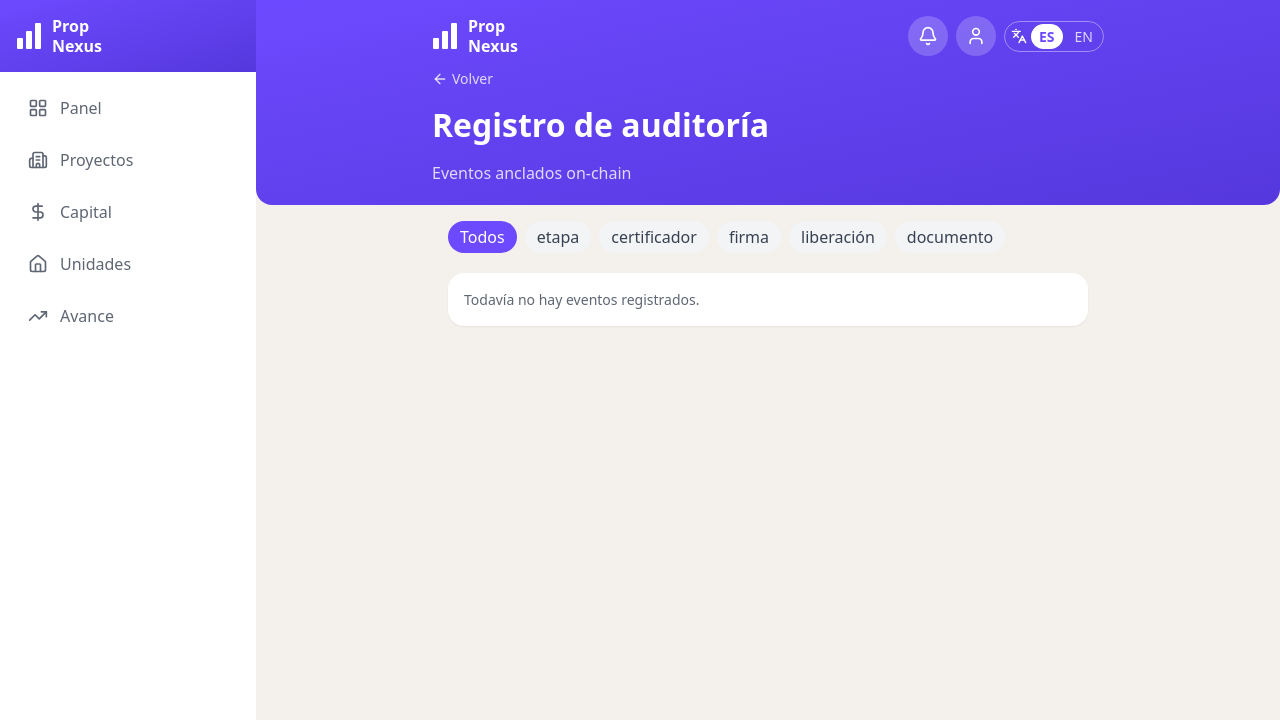
/developer/audit-log › la flecha de volver lleva al panel del developer
What coordinates should you click on to do the following:
click the button "Volver"
I would click on:
 (462, 78)
Its box is [432,68,493,89].
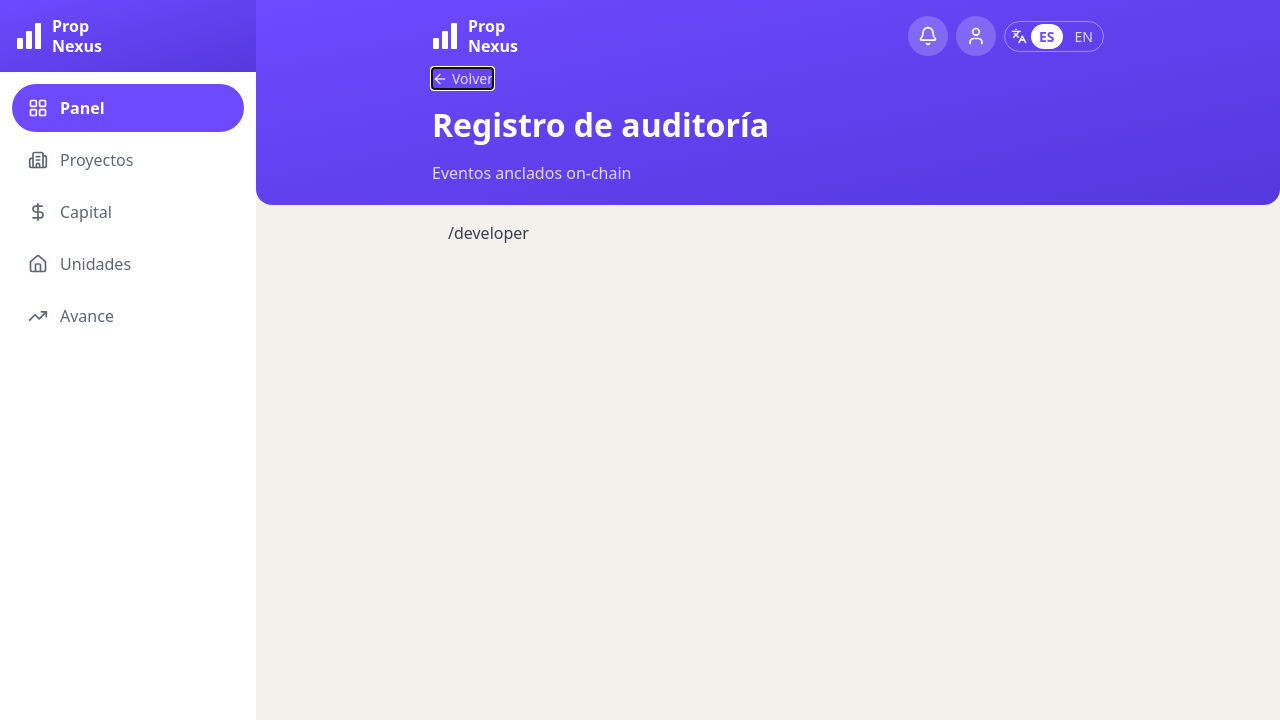
Check: the text "/developer" is shown, box [448,222,529,244]
